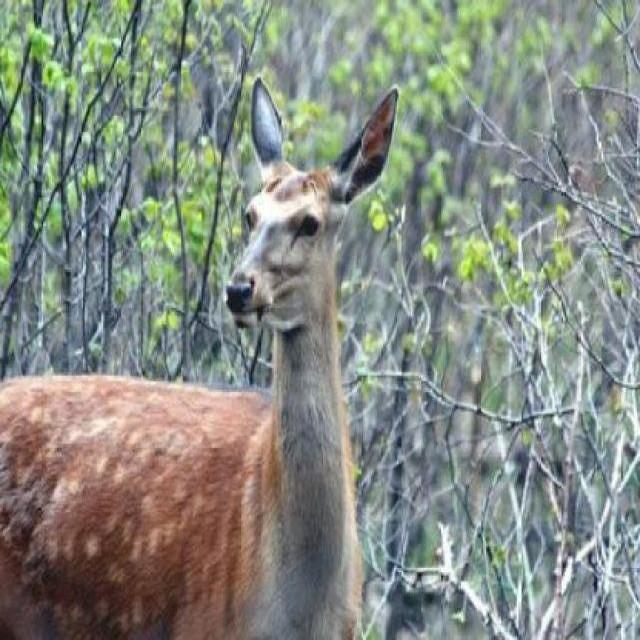deer: (1, 70, 404, 638)
